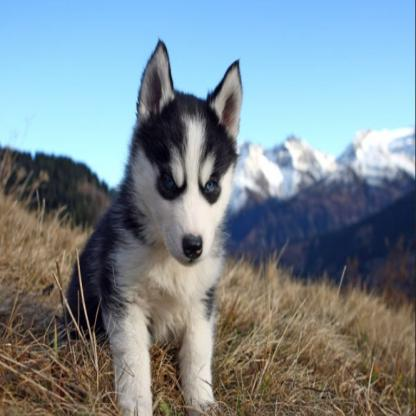dog: (66, 41, 246, 415)
